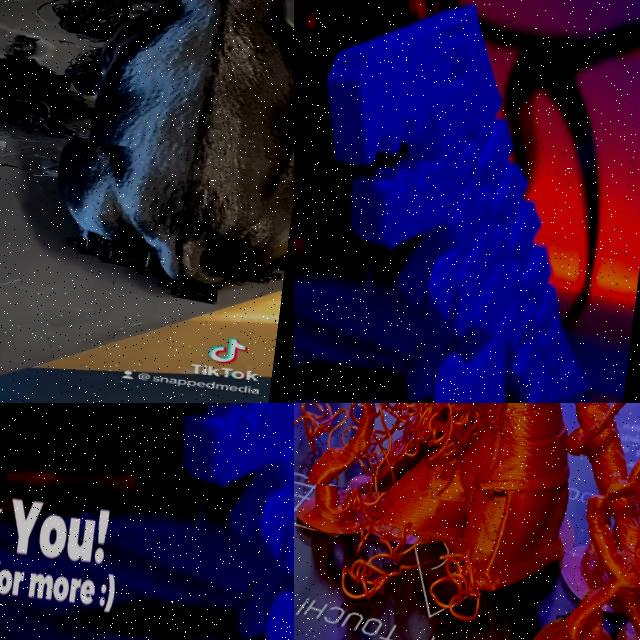spaghetti: (0, 0, 183, 149), (294, 403, 501, 504), (332, 490, 420, 621), (426, 540, 499, 640)
